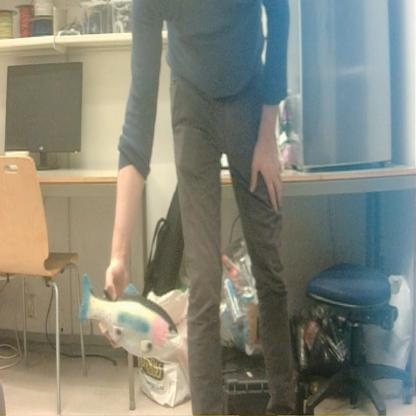rubberfish: (74, 264, 180, 362)
